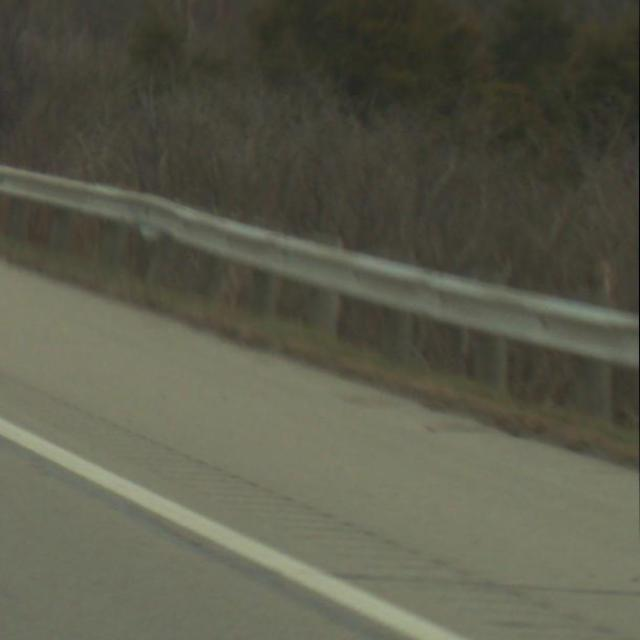Guard rail: (0, 165, 640, 438)
